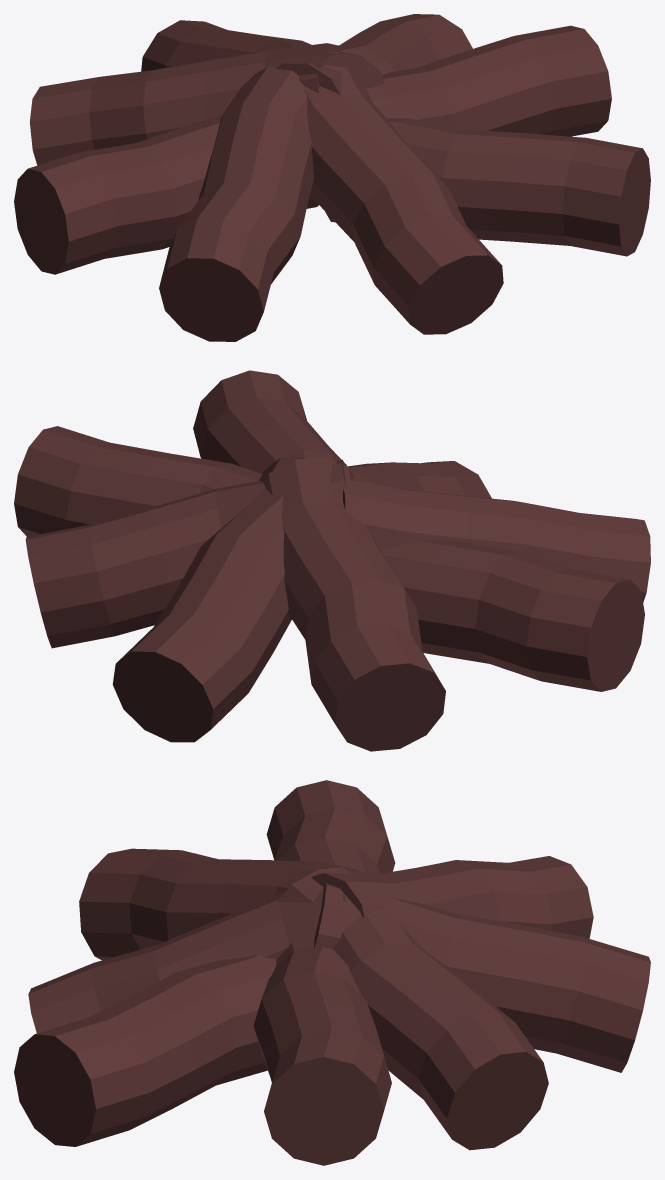
The model's file is firecamp.glb.
The picture shows the model from 3 angles, top to bottom: view 1: azimuth 30°, elevation 25°; view 2: azimuth 150°, elevation 25°; view 3: azimuth 270°, elevation 25°; orthographic projection. The views are drawn at different scales.
Parts seen in each view (by area): view 1: Cylinder.004; view 2: Cylinder.004; view 3: Cylinder.004.
Part boxes in pixels (<box>): Cylinder.004: <box>14,14,650,341</box>; Cylinder.004: <box>14,370,650,751</box>; Cylinder.004: <box>14,780,650,1165</box>.
Size of the model in its own units: 4.3 by 1.5 by 4.
